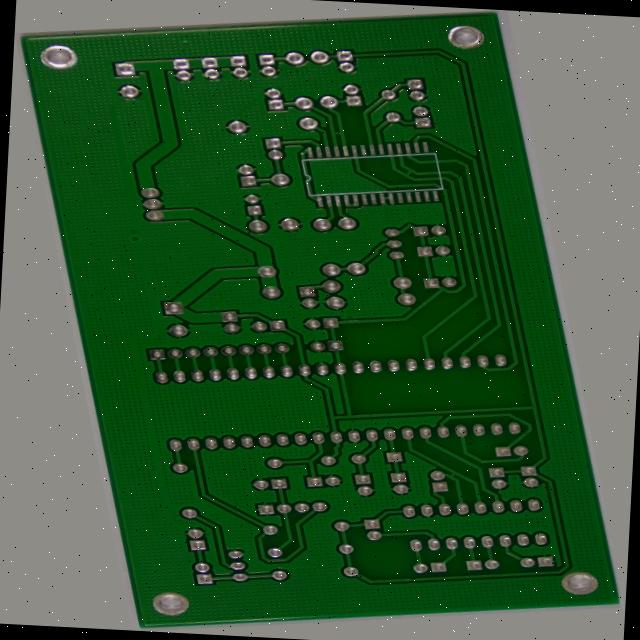short: (388, 116, 413, 133), (465, 168, 493, 183), (434, 491, 453, 504)
